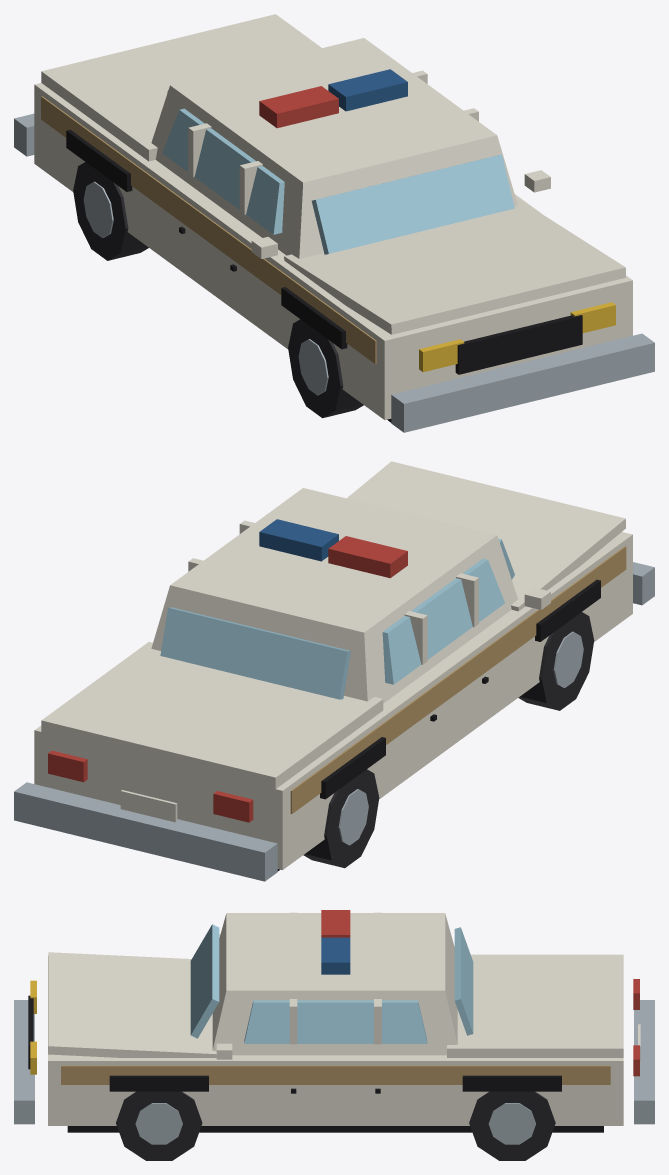
The model's file is GV_Police_Sheriff_01.glb.
The picture shows the model from 3 angles, top to bottom: view 1: azimuth 30°, elevation 25°; view 2: azimuth 150°, elevation 25°; view 3: azimuth 270°, elevation 25°; orthographic projection. The views are drawn at different scales.
Visible parts, largest first — view 1: GV_Police_Sheriff_01; view 2: GV_Police_Sheriff_01; view 3: GV_Police_Sheriff_01.
Part boxes in pixels (x1,y1,x2,y2): GV_Police_Sheriff_01: (14,14,654,432); GV_Police_Sheriff_01: (14,461,654,881); GV_Police_Sheriff_01: (14,910,654,1160).
Size of the model in its own units: 2.1 by 1.46 by 4.9.
Materials: 1 (1 with a texture image).
